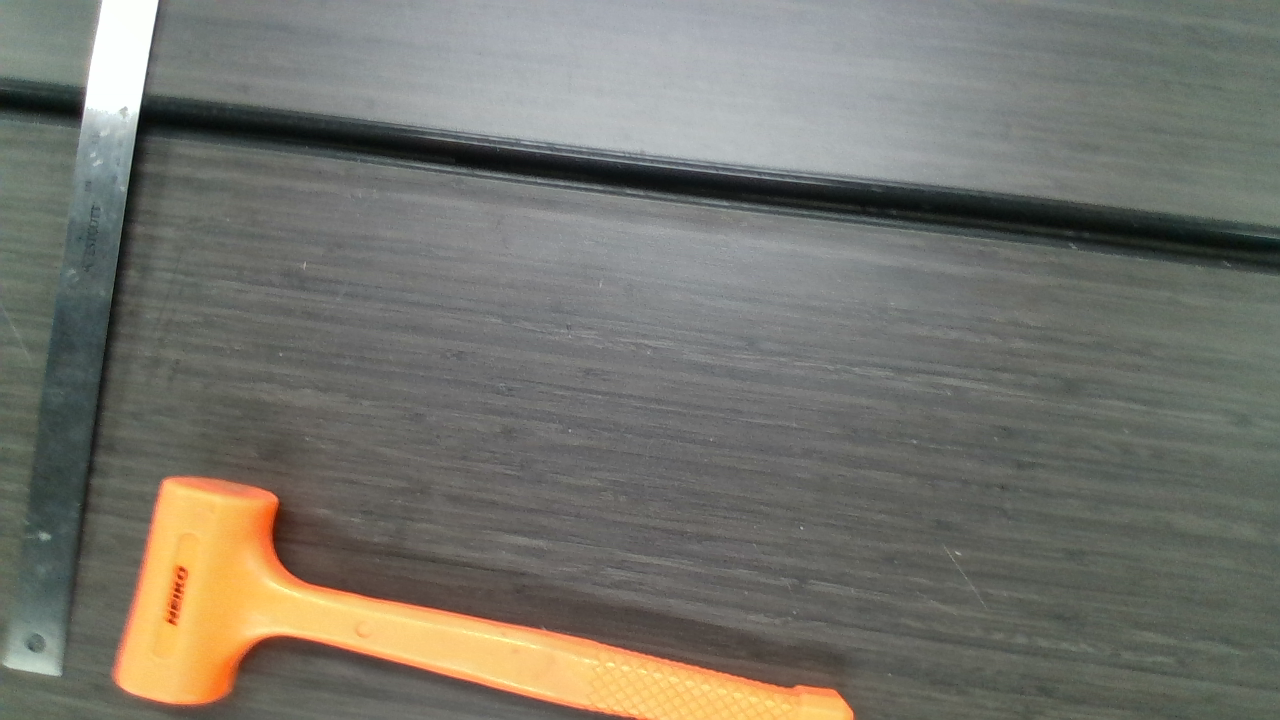Orange Hammer: (121, 476, 861, 718)
